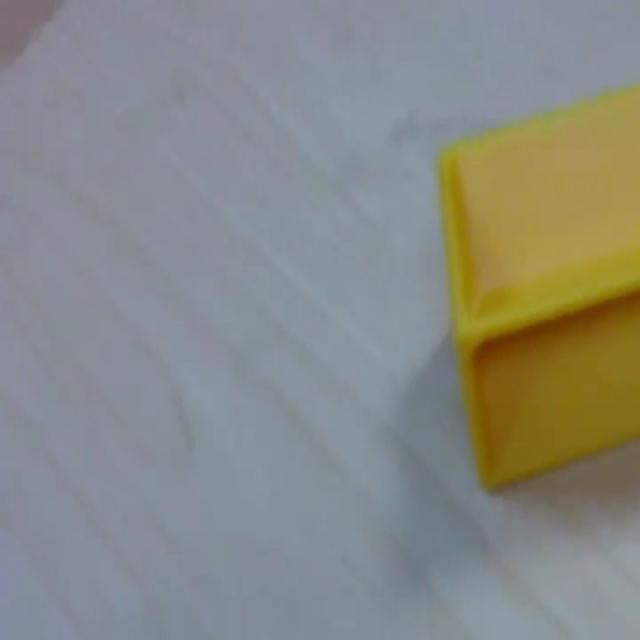yellow_block: (436, 81, 638, 492)
